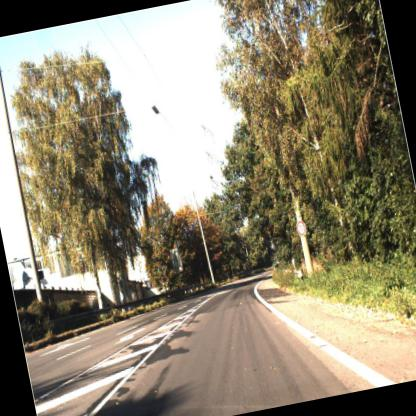prohibitory: (292, 213, 310, 241)
